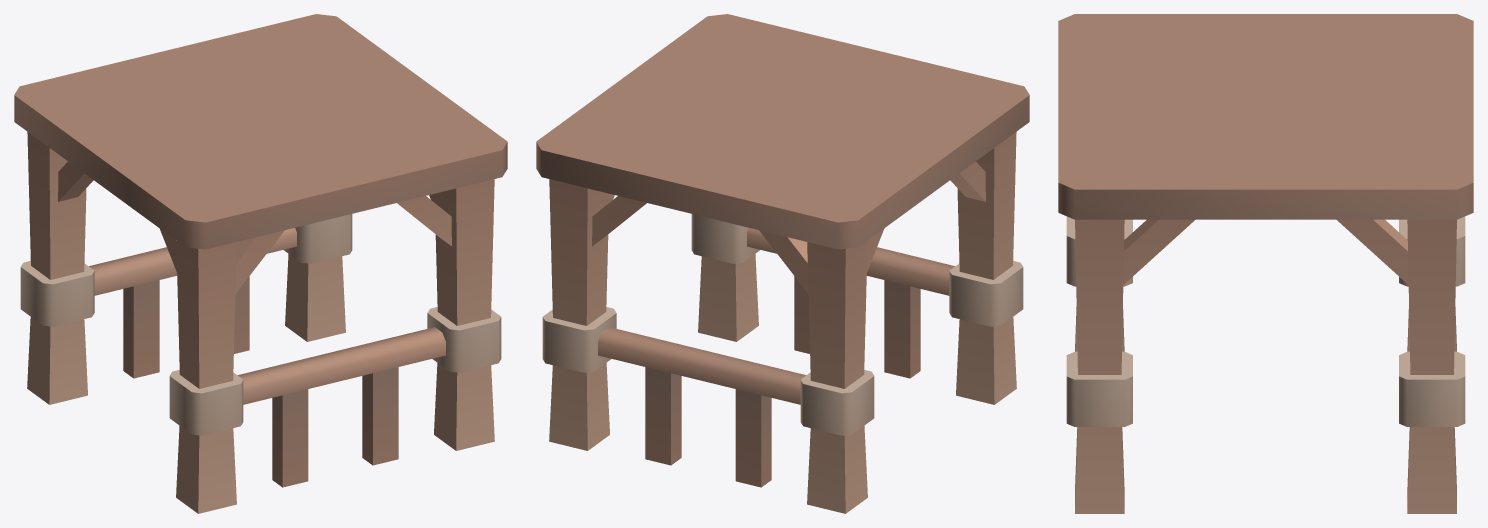
The model's file is structure-fence.glb.
3 renders of one model, left to right at view 1: azimuth 30°, elevation 25°; view 2: azimuth 150°, elevation 25°; view 3: azimuth 270°, elevation 25°, orthographic. The views are drawn at different scales.
Parts seen in each view (by area): view 1: structure-fence; view 2: structure-fence; view 3: structure-fence.
Boxes of the visible parts, box(x1,y1,x2,y2) form: structure-fence: box(14, 14, 507, 513); structure-fence: box(536, 14, 1029, 513); structure-fence: box(1058, 14, 1473, 513).
Size of the model in its own units: 2.5 by 2.2 by 2.5.
